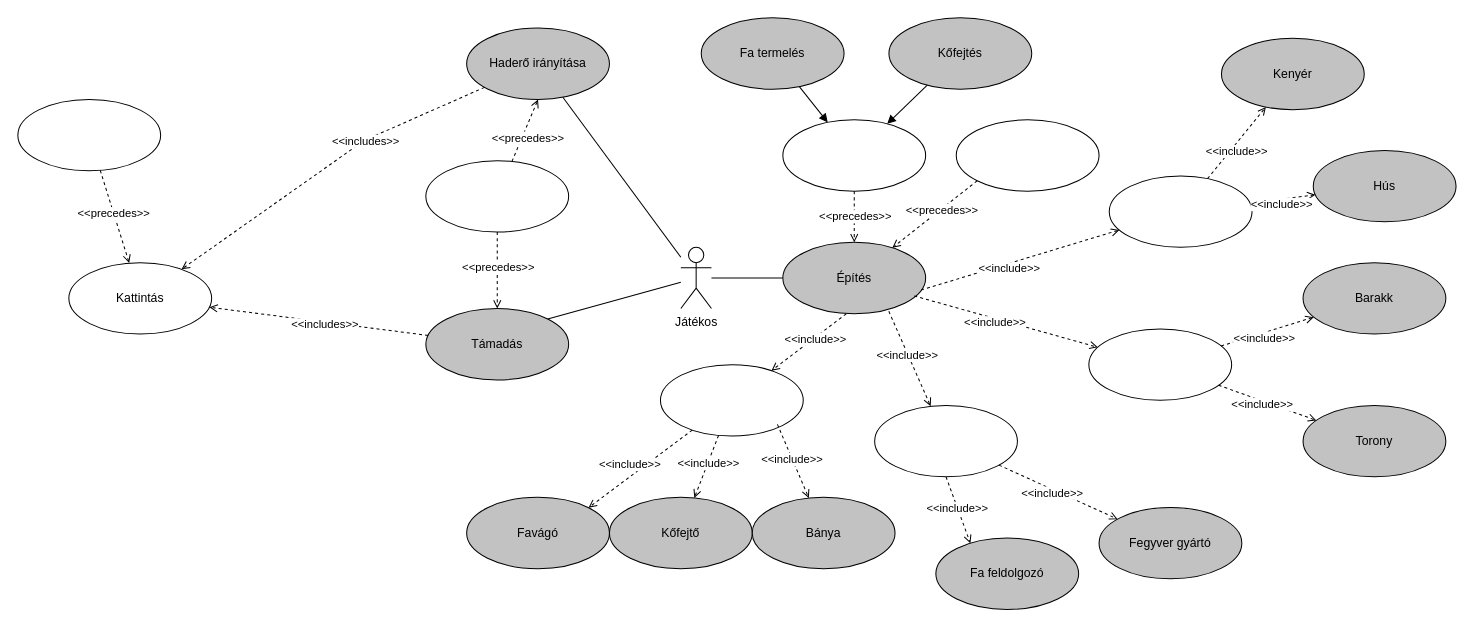
Some shapes in this 1474 by 627 pixel diagram are drawn without their labels. The centre of each missing label's shape, as x and y in pixels:
Hely kiválasztás: point (89, 134)
Kijelölés: point (497, 196)
Nyersanyag feldolgozó: point (945, 440)
Nyersanyag kinyerő: point (731, 400)
Nyersanyag termelés: point (854, 155)
Terület növelő: point (1160, 364)
Élelem termelő: point (1180, 211)
Épület kiválasztása: point (1027, 155)
